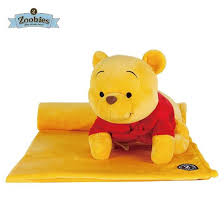Winnie: (80, 50, 183, 149)
